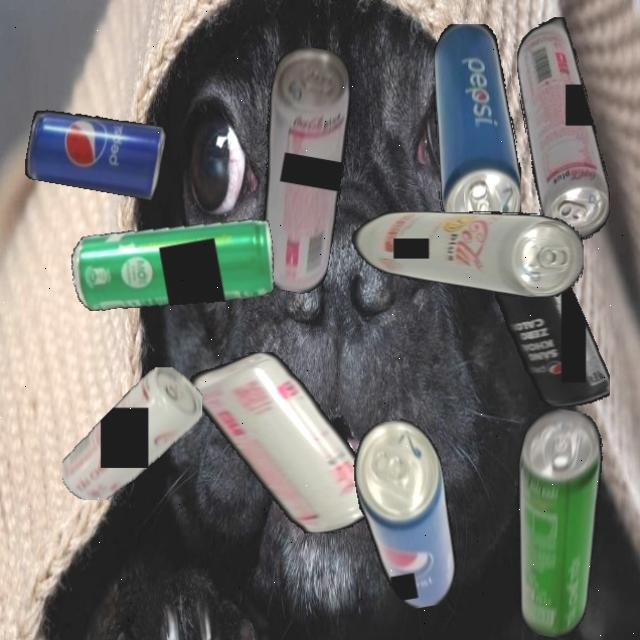debris: (188, 352, 380, 534), (238, 42, 364, 297), (490, 403, 619, 640), (66, 204, 281, 328), (346, 413, 465, 615), (516, 16, 610, 241), (346, 211, 584, 297), (433, 23, 521, 244), (61, 366, 202, 500), (494, 268, 610, 407), (23, 106, 167, 200)
